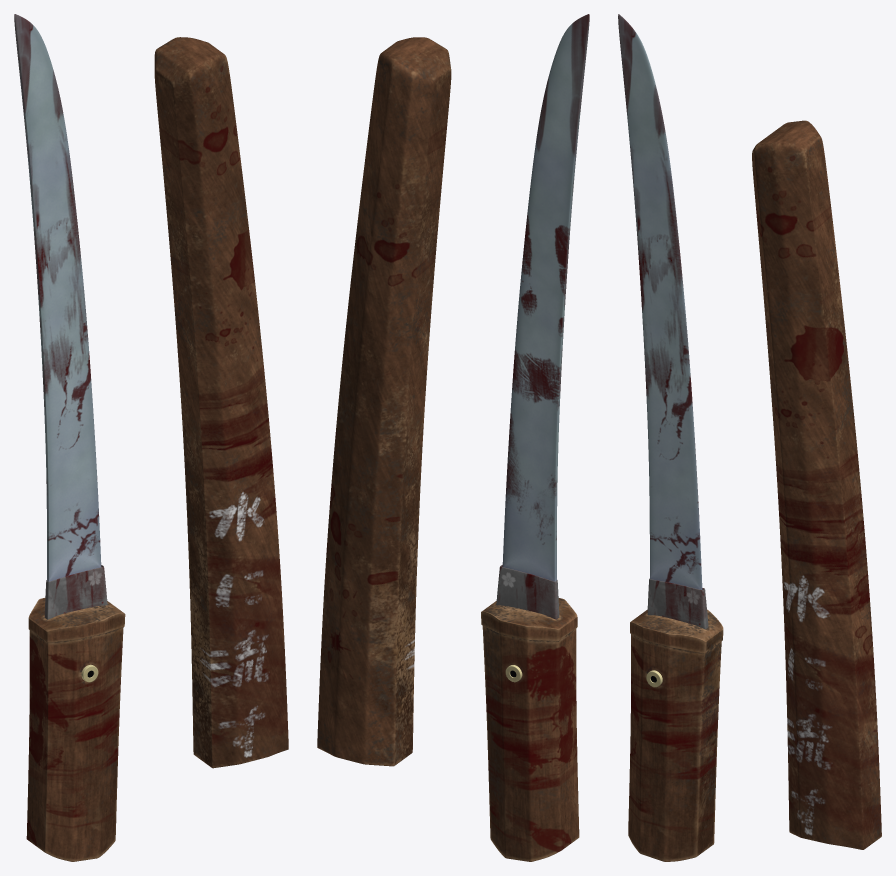
The model's file is wakizashi_-_japanese_sword.glb.
3 renders of one model, left to right at view 1: azimuth 30°, elevation 25°; view 2: azimuth 150°, elevation 25°; view 3: azimuth 330°, elevation 25°, orthographic. The views are drawn at different scales.
Visible parts, largest first — view 1: Sheath, Blade_blade_0, Handle, Guard; view 2: Sheath, Blade_blade_0, Handle, Guard; view 3: Sheath, Blade_blade_0, Handle, Guard.
Boxes of the visible parts, bbox=[...] form: Sheath: bbox=[154, 37, 288, 768]; Blade_blade_0: bbox=[14, 14, 101, 581]; Handle: bbox=[26, 598, 125, 861]; Guard: bbox=[44, 565, 107, 619]; Sheath: bbox=[317, 37, 451, 766]; Blade_blade_0: bbox=[502, 14, 589, 581]; Handle: bbox=[481, 598, 579, 861]; Guard: bbox=[496, 565, 559, 619]; Sheath: bbox=[752, 120, 881, 849]; Blade_blade_0: bbox=[618, 14, 702, 589]; Handle: bbox=[628, 609, 723, 861]; Guard: bbox=[647, 578, 708, 629].
Bounding box in the file's own units: 0.2845 × 0.8724 × 0.0749.
5 materials, 5 textured.
